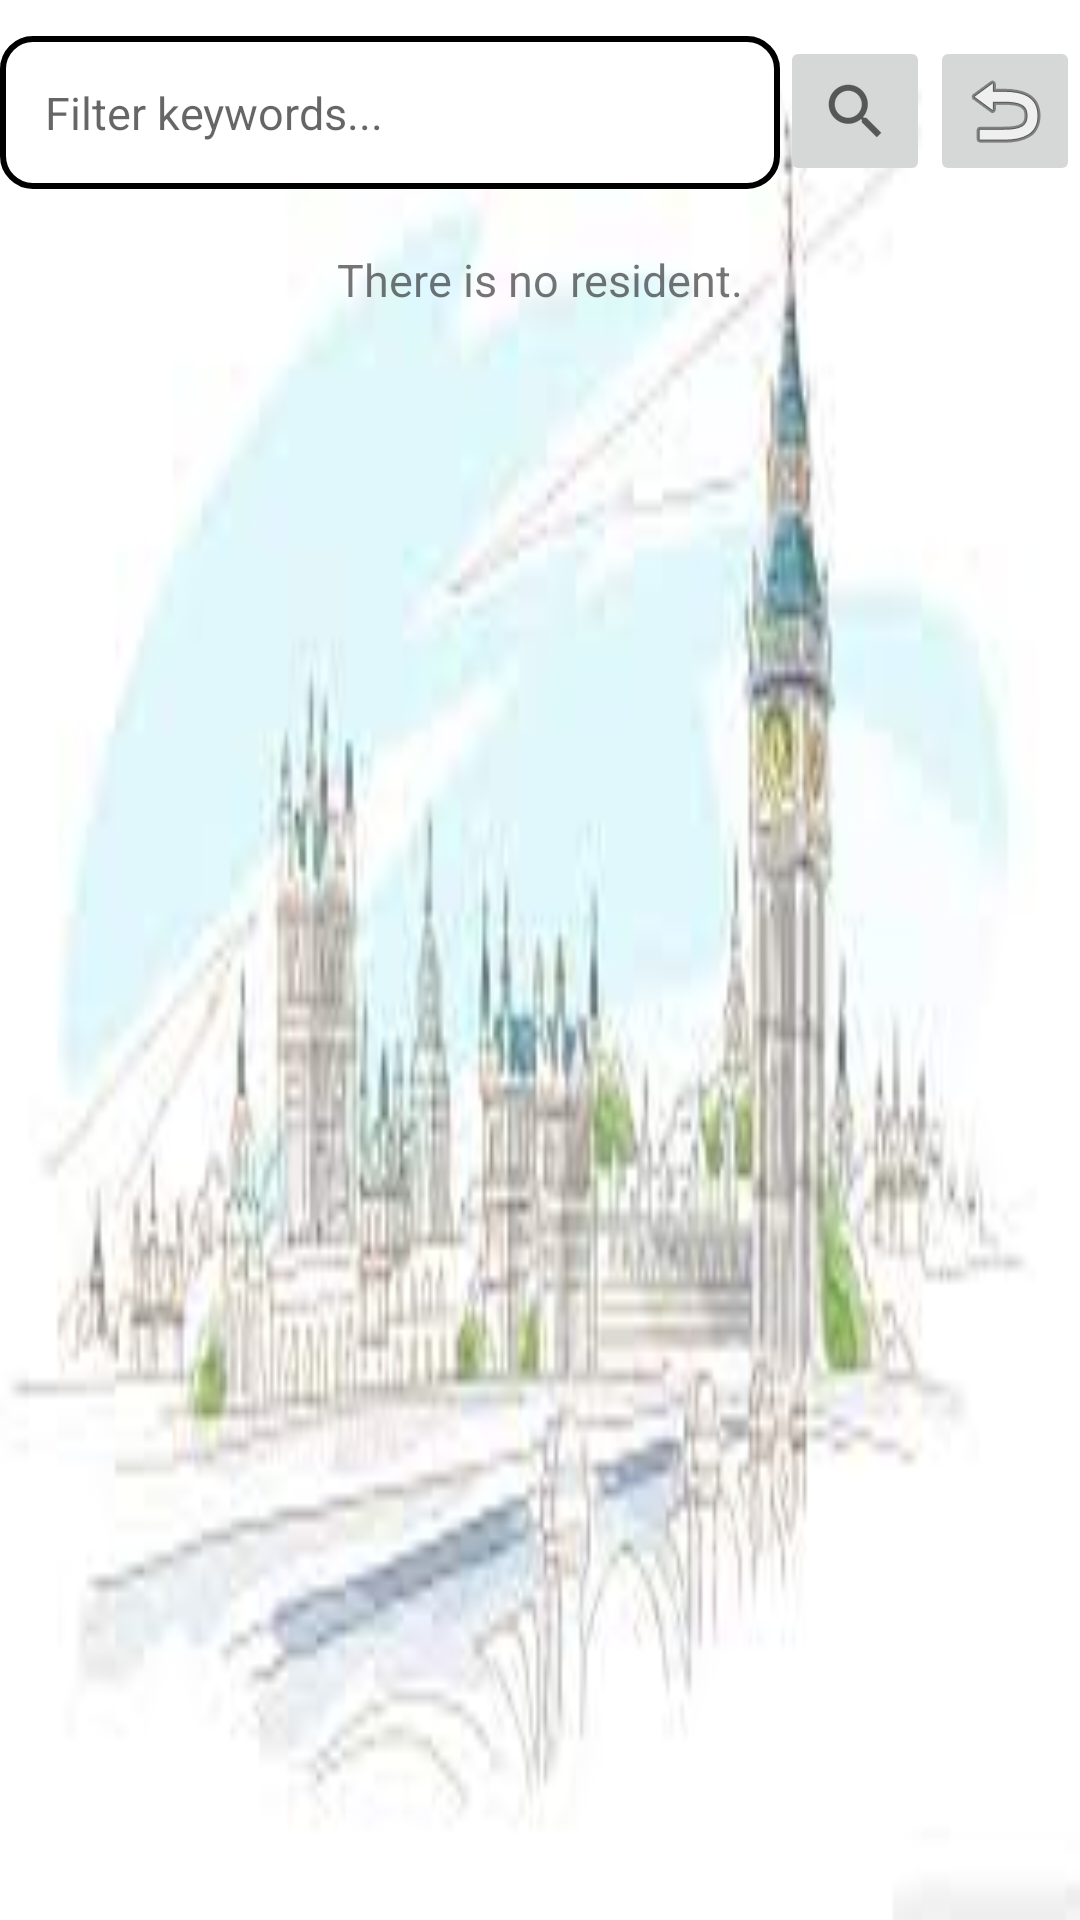

Screen size 1080x1920. Icon name, then its box in pixels as (x1, y1, x2, y2):
revert: (942, 54, 1068, 168)
